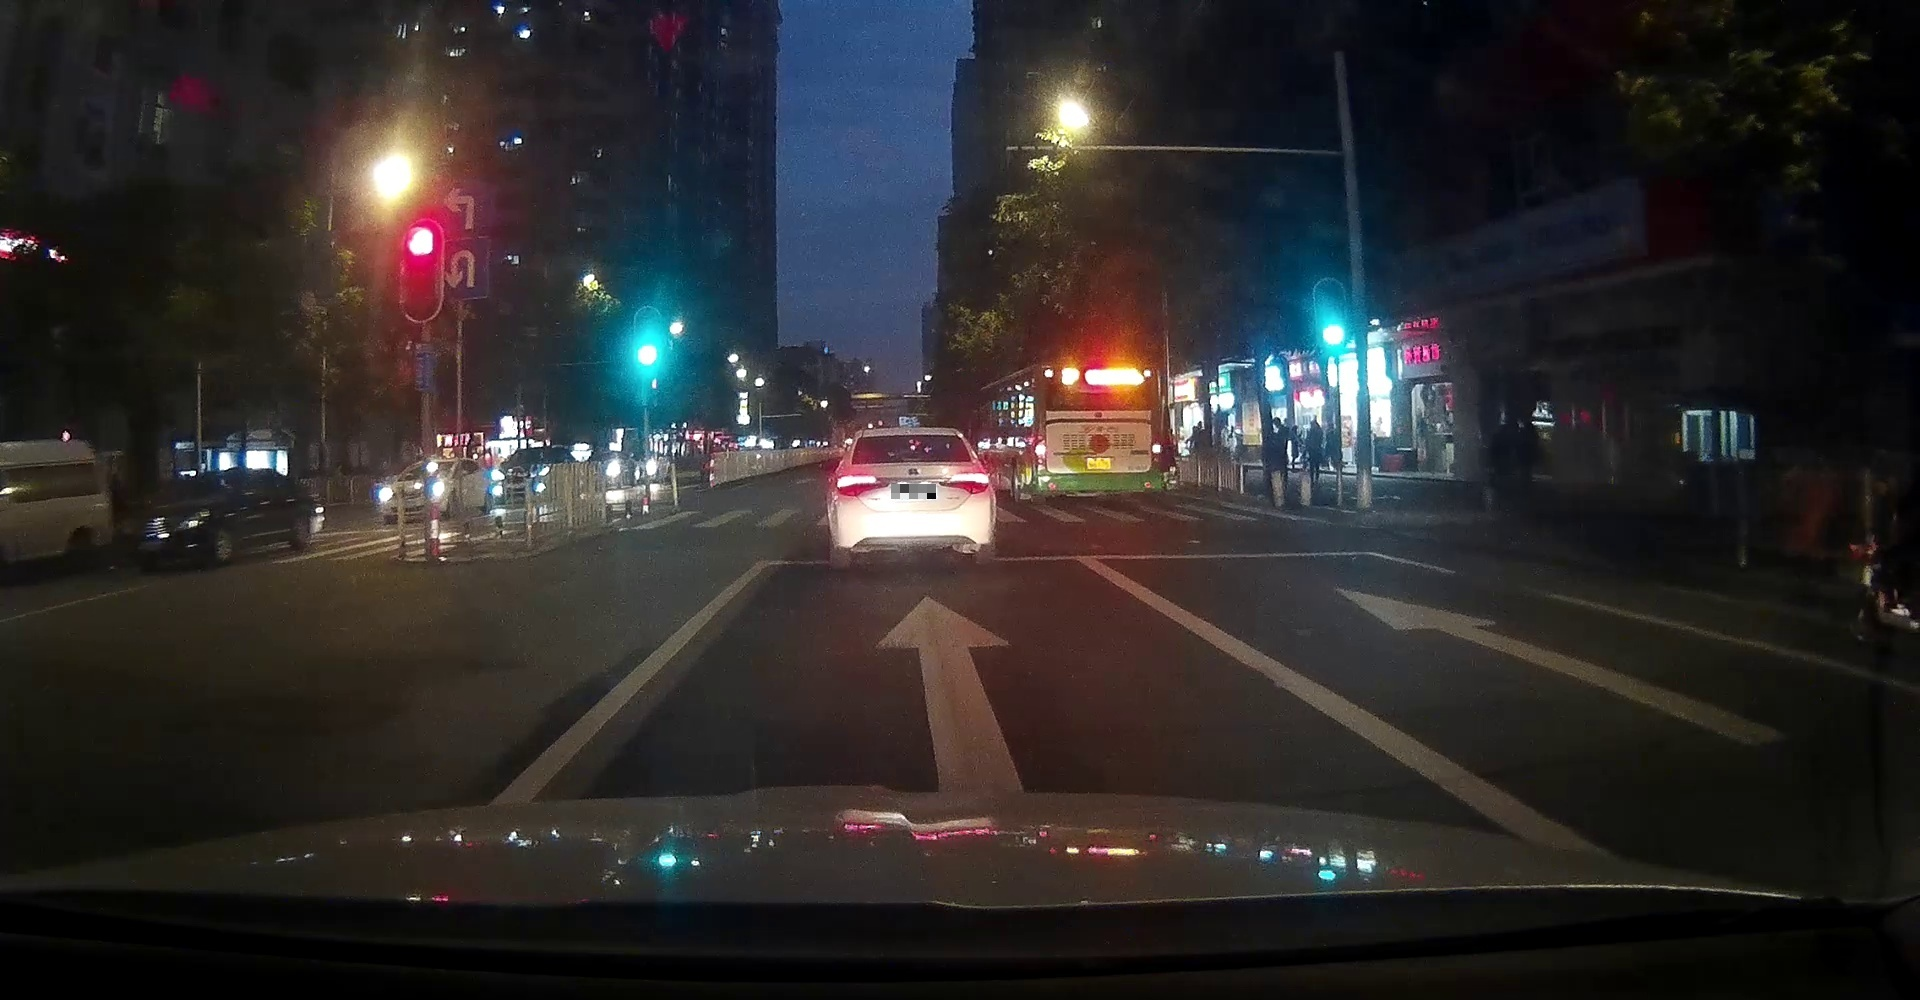L_light: (836, 473, 889, 496), (1037, 437, 1048, 463)
R_light: (938, 471, 990, 494), (1152, 435, 1163, 459)
T_light: (900, 431, 926, 437), (1092, 363, 1112, 368)
night-no: (825, 426, 996, 566), (1037, 357, 1164, 510)
plate_1: (891, 484, 936, 499)
